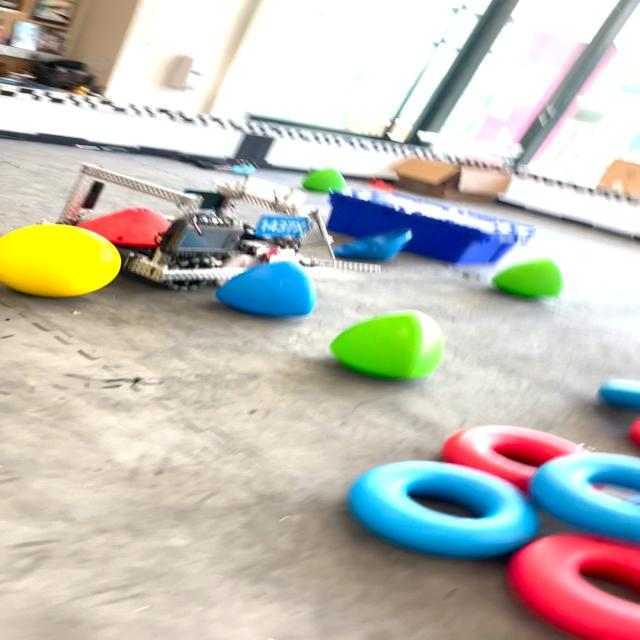Blue-Ring: (349, 461, 538, 558), (529, 452, 640, 541)
Red-Ring: (509, 534, 640, 640), (442, 425, 584, 491)
